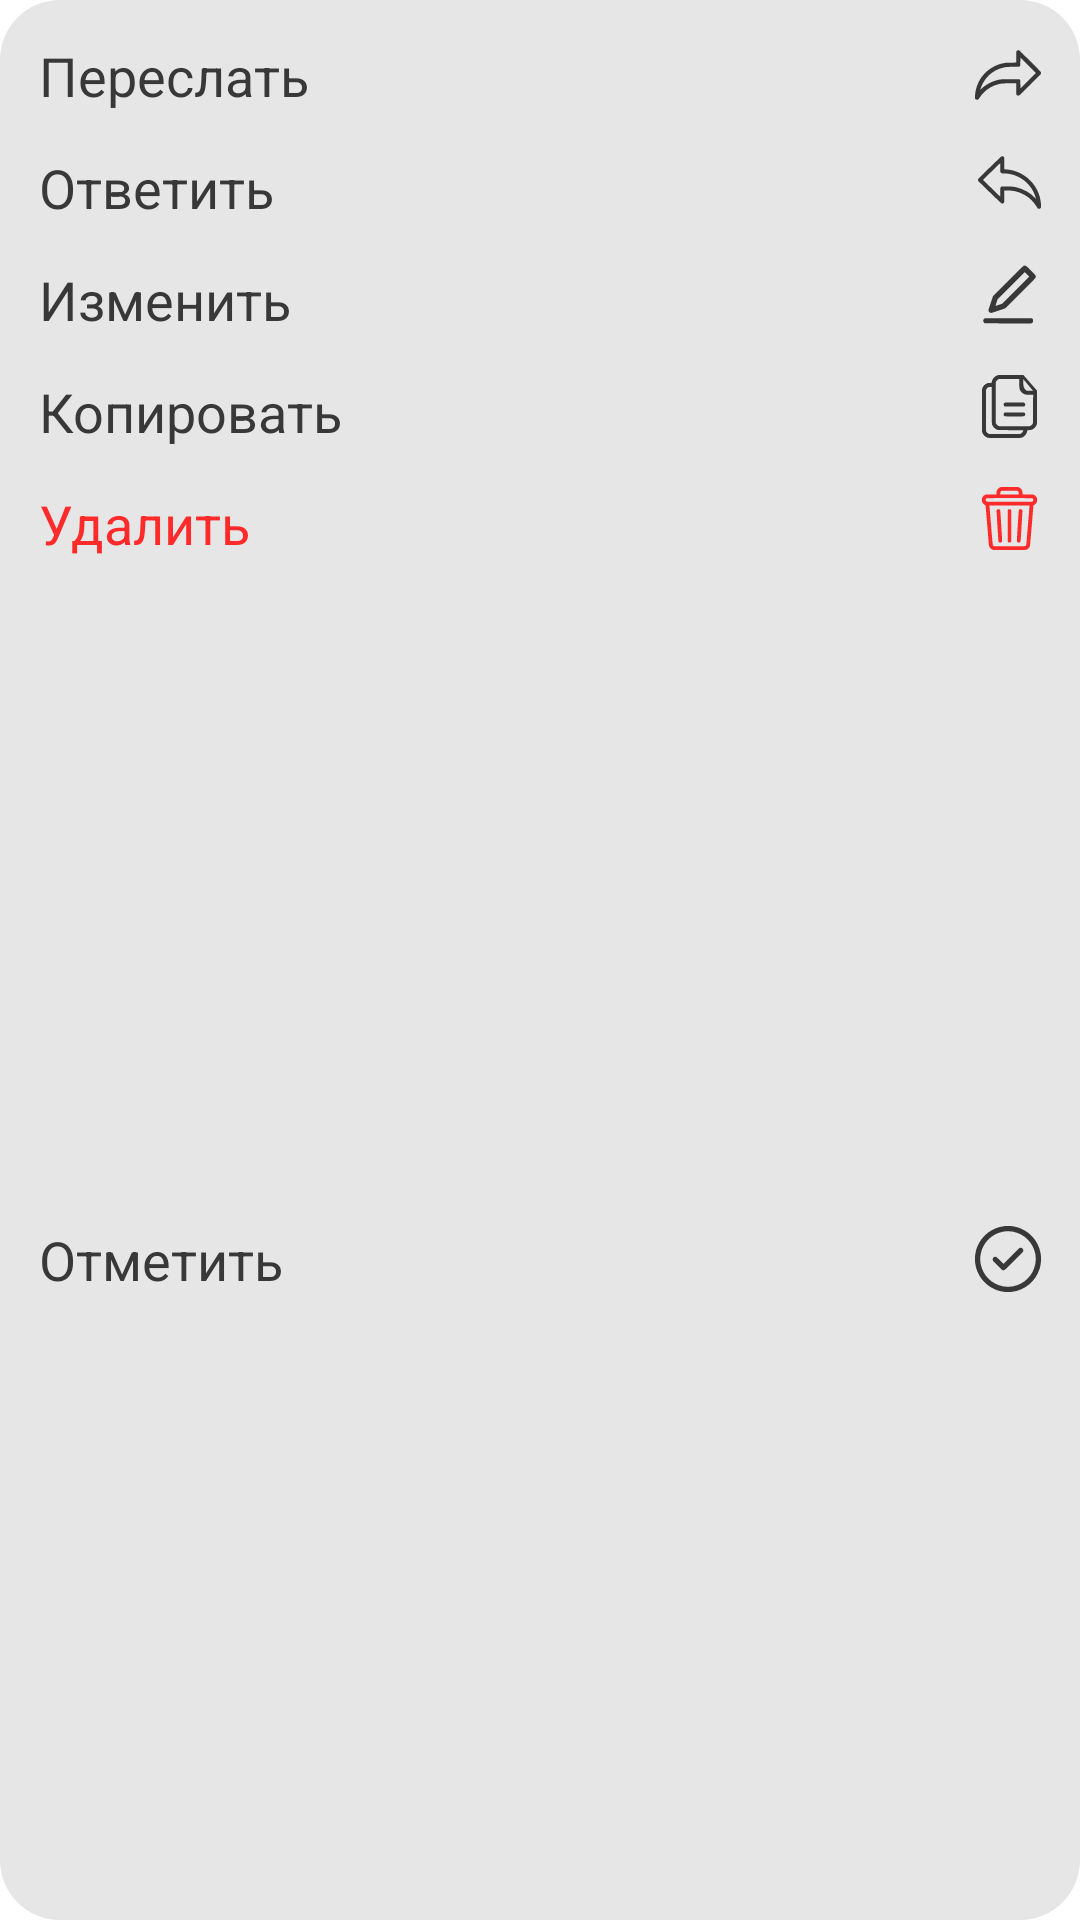

Screen size 1080 x 1920. Icon name, then its center in pixels as [x,y]:
answer: [1009,182]
bin: [1009,518]
edit: [1009,294]
mark: [1008,1259]
